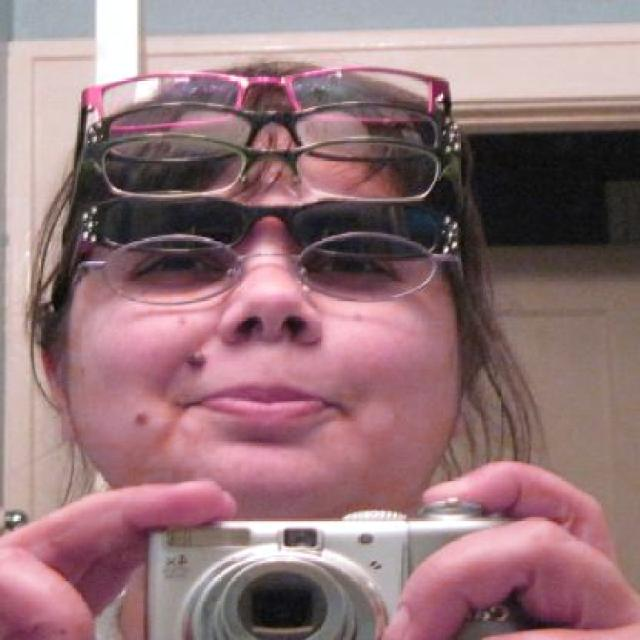face_nomask: (121, 232, 428, 456)
glasses: (83, 128, 446, 208), (86, 101, 452, 176), (68, 71, 461, 135), (84, 191, 456, 251)
